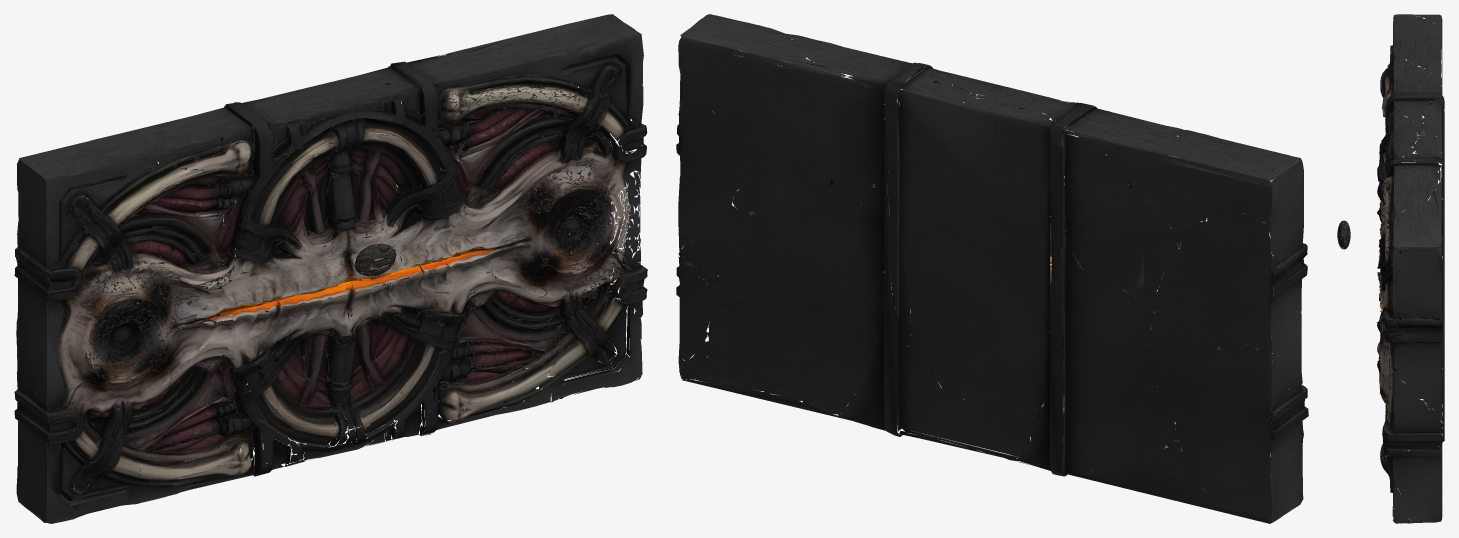
The model's file is nahl_refusal_cautery_scar.glb.
The picture shows the model from 3 angles, left to right: view 1: azimuth 30°, elevation 25°; view 2: azimuth 150°, elevation 25°; view 3: azimuth 270°, elevation 25°; orthographic projection. The views are drawn at different scales.
Parts seen in each view (by area): view 1: node_0, HB_PULSE_00; view 2: node_0; view 3: node_0, HB_PULSE_00.
Part boxes in pixels (x1,y1,x2,y2): node_0: (14,14,647,523); HB_PULSE_00: (354,243,396,276); node_0: (676,14,1308,523); node_0: (1377,14,1444,523); HB_PULSE_00: (1337,220,1350,249).
Bounding box in the file's own units: 1.06 × 0.5942 × 0.2044.
Materials: 1 (1 with a texture image).
